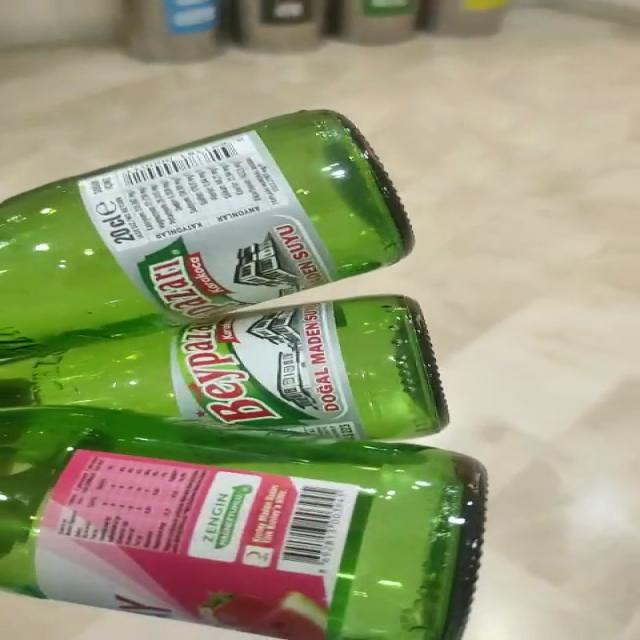glass: (0, 111, 488, 640)
